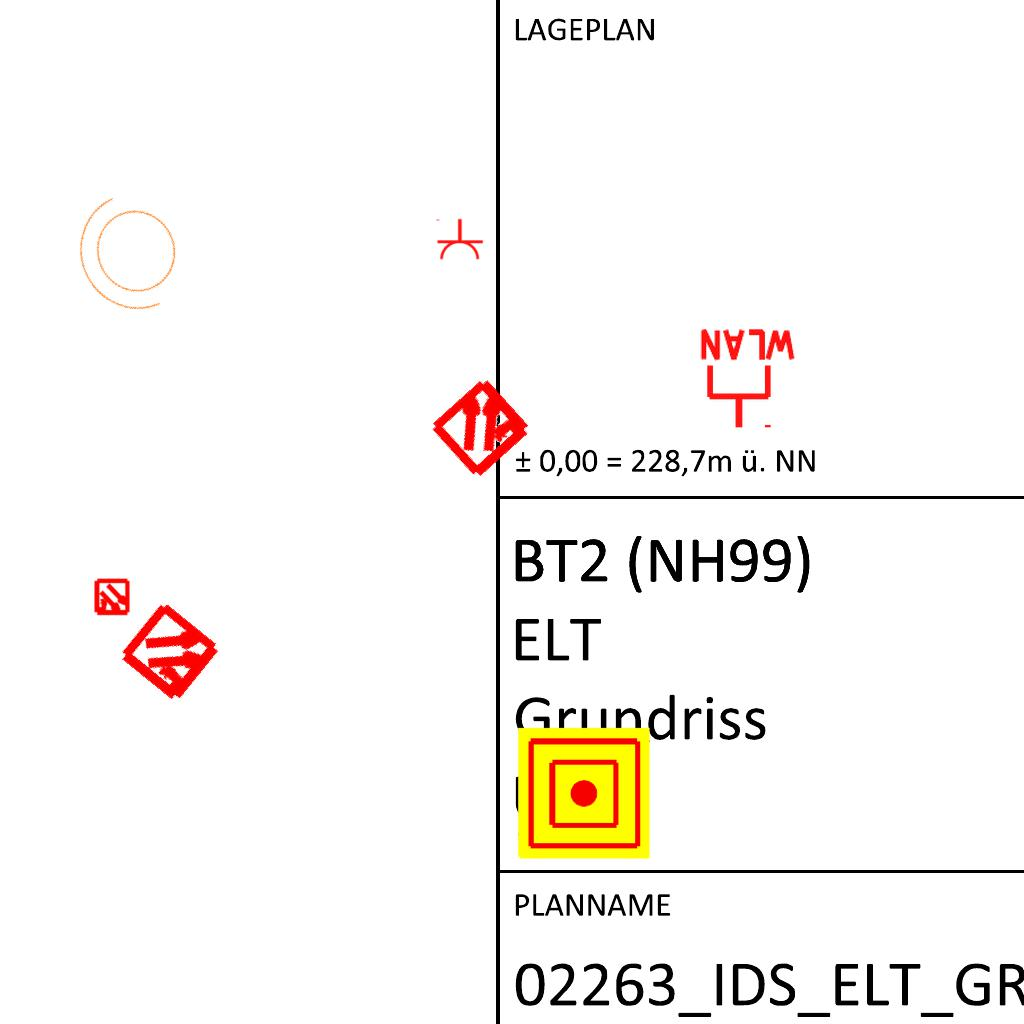NAM-Nichtautomatischer_Melder: (518, 727, 650, 859)
OT_Multisensormelder_(Kombination_RMO_WMD): (402, 346, 563, 507), (92, 574, 251, 733), (84, 570, 140, 626)
Scheinwerfer_fuer_Alarmbeleuchtung: (54, 172, 212, 340)
Schukosteckdose_einfach: (434, 218, 484, 261)
WLAN: (696, 327, 800, 432)
